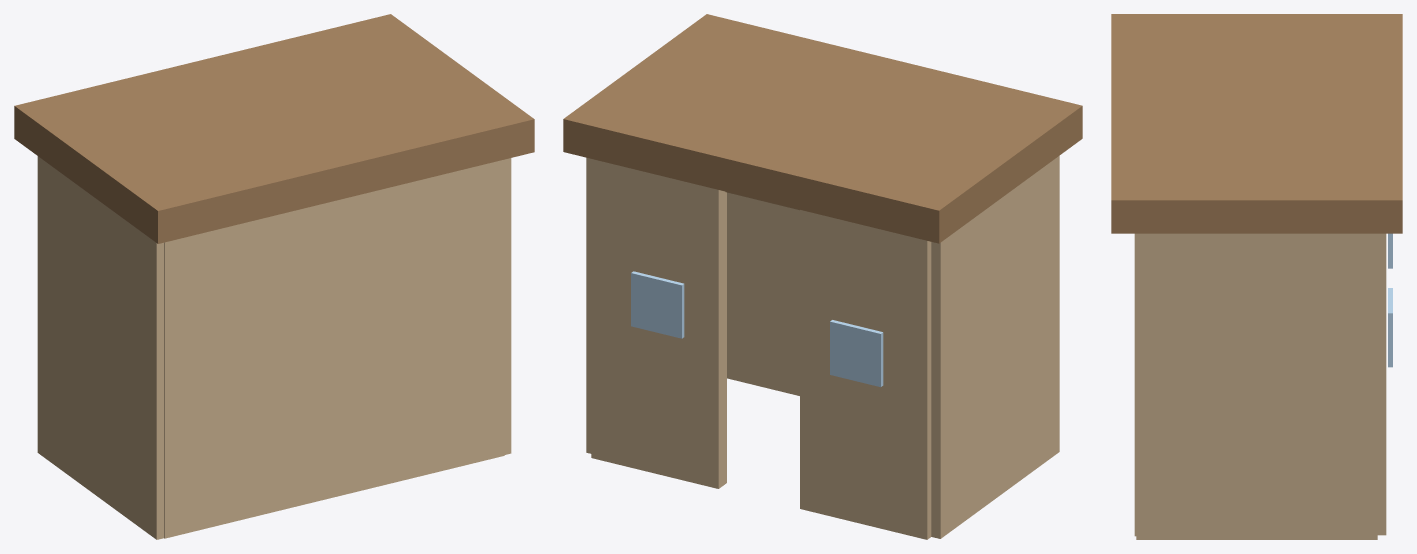
Rendered from br_house_enterable.glb.
3 views of the same model, side by side, from view 1: azimuth 30°, elevation 25°; view 2: azimuth 150°, elevation 25°; view 3: azimuth 270°, elevation 25° (orthographic).
Visible parts, largest first — view 1: back_wall, roof, left_wall, right_wall; view 2: roof, left_wall, front_r, front_l, back_wall, window_l, window_r, right_wall; view 3: right_wall, roof, front_r, back_wall, window_r.
Part boxes in pixels (x1,y1,x2,y2): back_wall: [164, 159, 504, 538]; roof: [14, 14, 534, 243]; left_wall: [37, 156, 163, 539]; right_wall: [504, 158, 511, 454]; roof: [563, 14, 1082, 243]; left_wall: [931, 156, 1059, 538]; front_r: [591, 159, 726, 488]; front_l: [800, 210, 931, 539]; back_wall: [727, 192, 799, 395]; window_l: [830, 320, 883, 387]; window_r: [631, 271, 684, 338]; right_wall: [586, 157, 591, 453]; right_wall: [1136, 233, 1377, 539]; roof: [1111, 14, 1402, 233]; front_r: [1377, 233, 1386, 535]; back_wall: [1134, 233, 1136, 536]; window_r: [1388, 288, 1392, 367].
Bounding box in the file's own units: 3.1 × 2.68 × 2.05.
